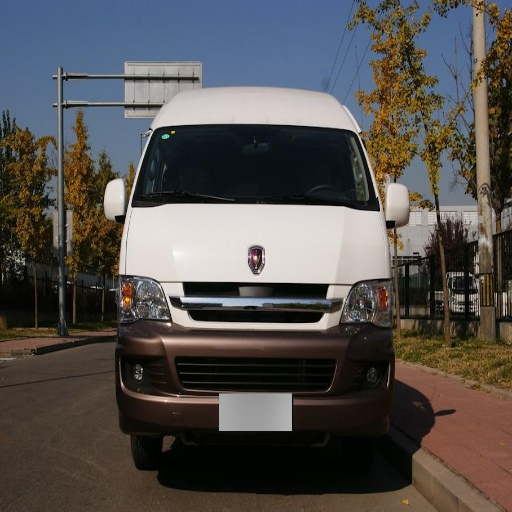front_bumper: (117, 280, 400, 442)
front_right_light: (113, 270, 168, 321)
hood: (129, 203, 389, 283)
